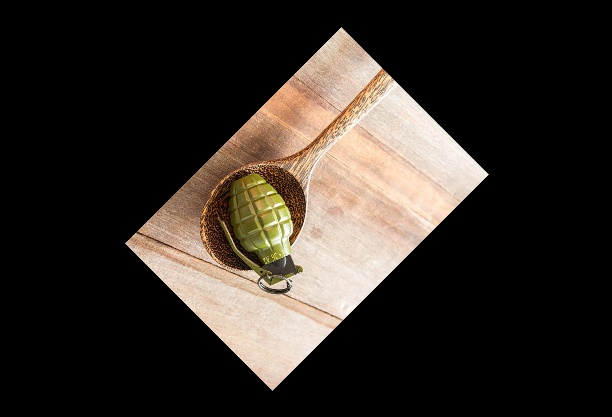e1: (218, 172, 306, 296)
